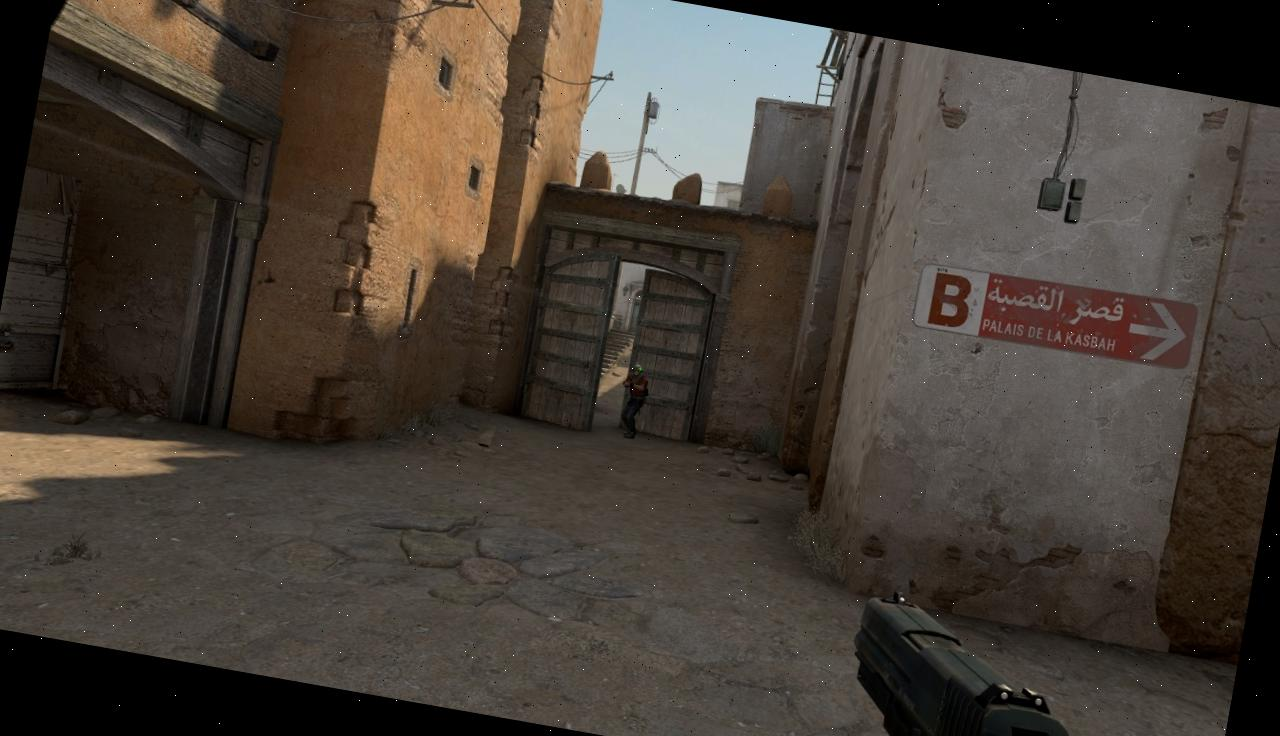pistol: (832, 590, 1117, 736)
tt: (615, 362, 653, 440)
tthead: (632, 364, 642, 378)
